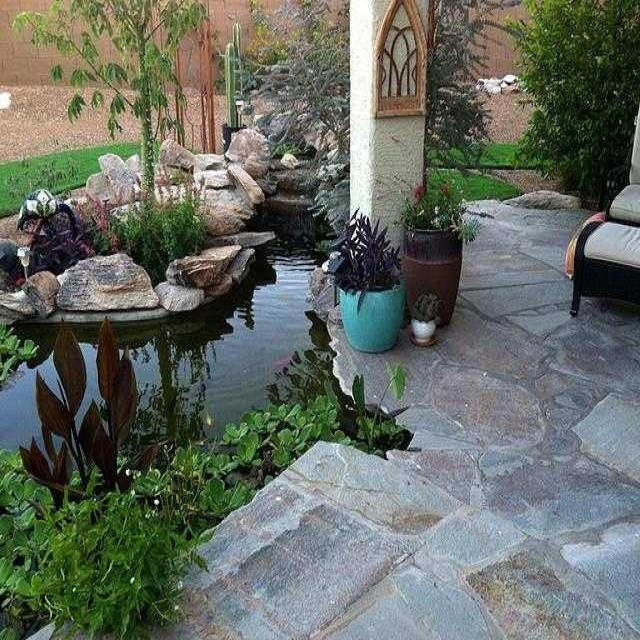Ponds: (1, 144, 352, 468)
